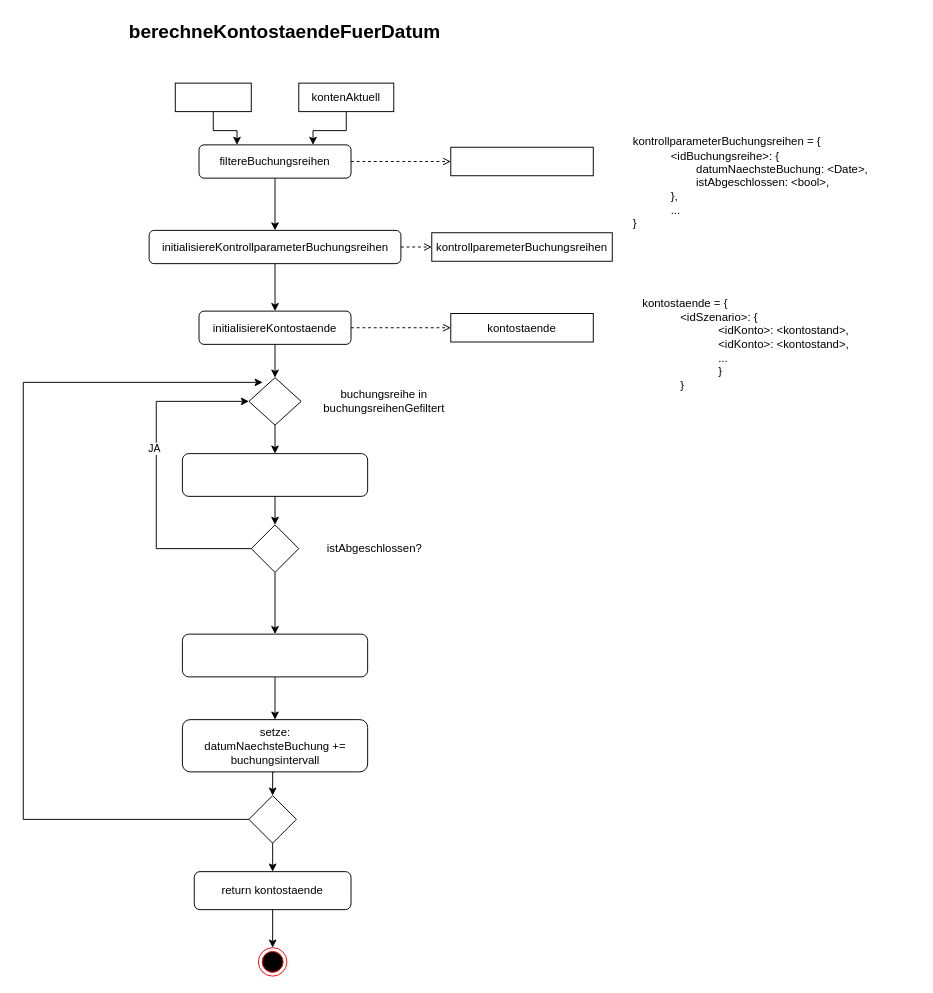
The diagram is 933 pixels wide and 993 high, and some of its shapes have lost their labels. Here are the shapes that lost their labels. From the top down, the centre of each, then its label:
At point (212, 97): "szenario".
At point (521, 161): "buchungsreihenGefiltert".
At point (274, 474): "setze: istAbgeschlossen = datumNaechsteBuchung > datum".
At point (274, 655): "anpasse kontostaende für Quellkonto / Zielkonto".
